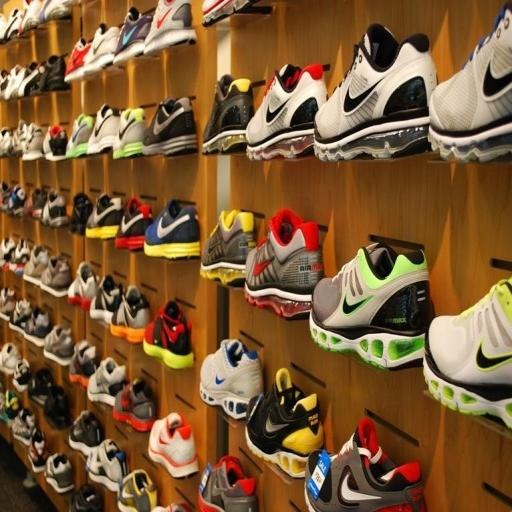shoe: (314, 24, 437, 161), (310, 243, 431, 368), (423, 278, 512, 429), (428, 3, 512, 162), (304, 418, 427, 512), (245, 209, 324, 318), (246, 368, 324, 478), (246, 64, 327, 160), (200, 339, 263, 419), (200, 210, 256, 286), (202, 75, 255, 154), (143, 301, 194, 369), (199, 455, 258, 512), (144, 199, 200, 259), (148, 412, 198, 478), (142, 97, 198, 155), (144, 0, 196, 55), (110, 285, 151, 343), (112, 378, 156, 432), (113, 6, 152, 65), (86, 439, 128, 492), (115, 196, 152, 251), (83, 23, 120, 76), (87, 357, 126, 406), (117, 469, 158, 512), (86, 193, 123, 239), (68, 410, 104, 457), (87, 104, 120, 155), (113, 108, 146, 159), (89, 275, 123, 324), (9, 298, 32, 369), (31, 55, 70, 96), (0, 84, 13, 204), (67, 261, 98, 311), (202, 0, 258, 27), (69, 340, 99, 388), (42, 324, 74, 367), (40, 256, 72, 298), (64, 38, 92, 83), (44, 385, 72, 430), (66, 114, 94, 159), (0, 198, 17, 268), (45, 453, 74, 494), (24, 306, 52, 347), (41, 189, 69, 228), (23, 245, 49, 286), (28, 366, 54, 406), (152, 502, 256, 512), (70, 192, 94, 235), (0, 128, 12, 212), (0, 129, 12, 212), (17, 62, 44, 98), (70, 484, 104, 512), (28, 427, 48, 473), (43, 125, 68, 161), (12, 408, 35, 447), (22, 123, 44, 161), (8, 238, 30, 276), (4, 64, 26, 101), (0, 13, 9, 101), (24, 187, 48, 220), (40, 0, 72, 24), (20, 0, 43, 33), (3, 8, 23, 43), (0, 342, 21, 375), (13, 358, 31, 393), (4, 389, 20, 428), (6, 185, 26, 216), (11, 119, 27, 156), (0, 287, 17, 321), (0, 384, 9, 424), (22, 471, 39, 490), (0, 12, 7, 44)
